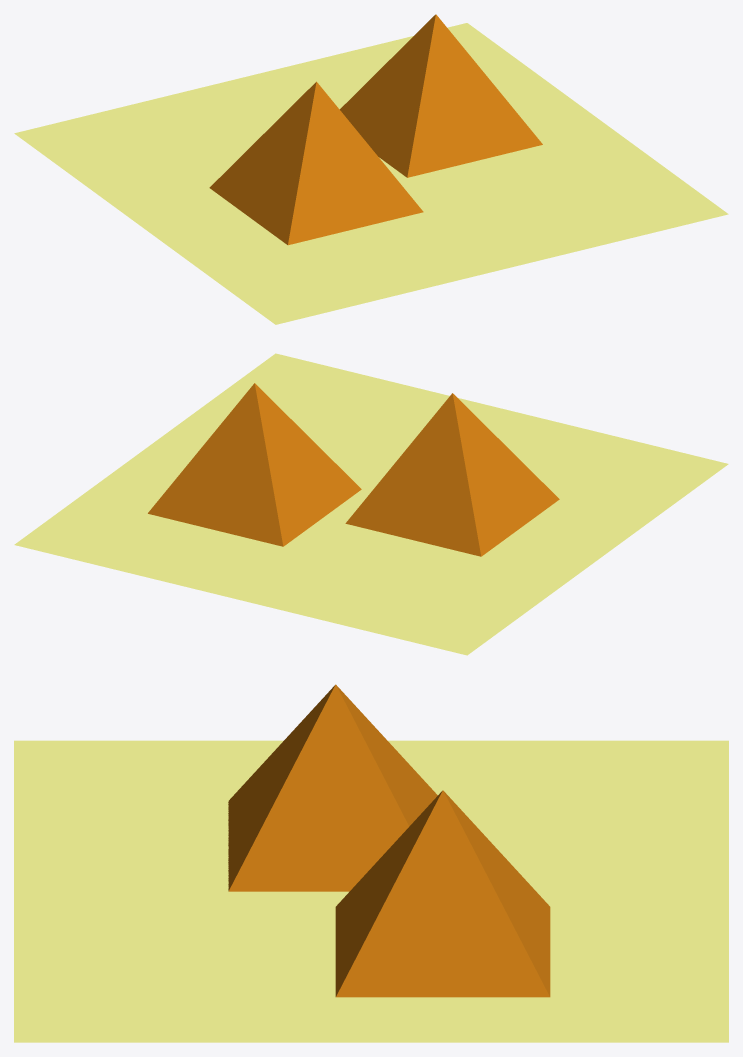
File: Piramids2.DAE
3 renders of one model, top to bottom at view 1: azimuth 30°, elevation 25°; view 2: azimuth 150°, elevation 25°; view 3: azimuth 270°, elevation 25°, orthographic. The views are drawn at different scales.
Parts seen in each view (by area): view 1: Plane001, Pyramid002, Pyramid001; view 2: Plane001, Pyramid002, Pyramid001; view 3: Plane001, Pyramid001, Pyramid002.
Boxes of the visible parts, x1=… form: Plane001: x1=14, y1=23, x2=728, y2=324; Pyramid002: x1=209, y1=81, x2=423, y2=245; Pyramid001: x1=340, y1=14, x2=542, y2=177; Plane001: x1=14, y1=353, x2=728, y2=655; Pyramid002: x1=345, y1=393, x2=559, y2=556; Pyramid001: x1=148, y1=383, x2=361, y2=546; Plane001: x1=14, y1=740, x2=728, y2=1042; Pyramid001: x1=335, y1=790, x2=550, y2=997; Pyramid002: x1=228, y1=684, x2=437, y2=891.
Bounding box in the file's own units: 100 × 25 × 100.
